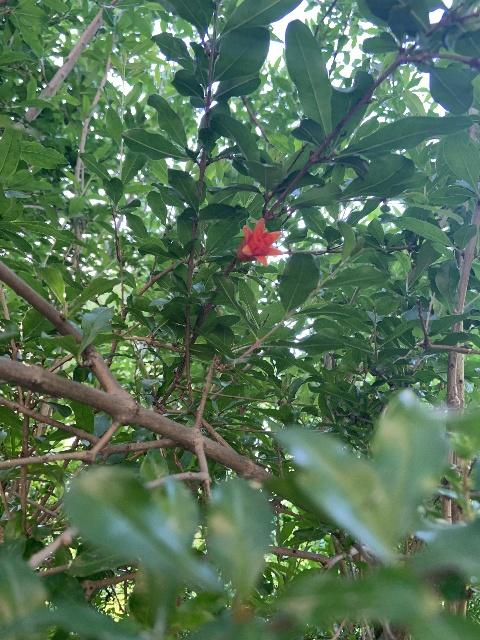flower: (237, 217, 283, 266)
